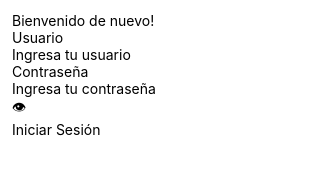
LoginScreen - Comprehensive Test Suite › ✅ Validaciones de login › muestra error cuando se intenta hacer login solo con usuario
The image size is (332, 172).
Type "test_user" into the field with placeholder "Ingresa tu usuario". click: (121,54)
box: [12,46,230,63]
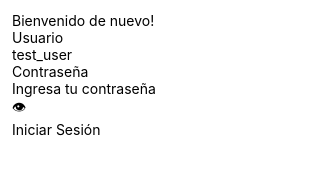
Click the button with test id "login-button". click: (121,130)
box: [12,121,230,138]
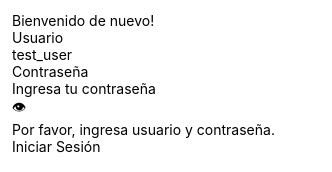
expect the text "Por favor, ingresa usuario y contraseña." is shown: met, box [12,121,275,138]
